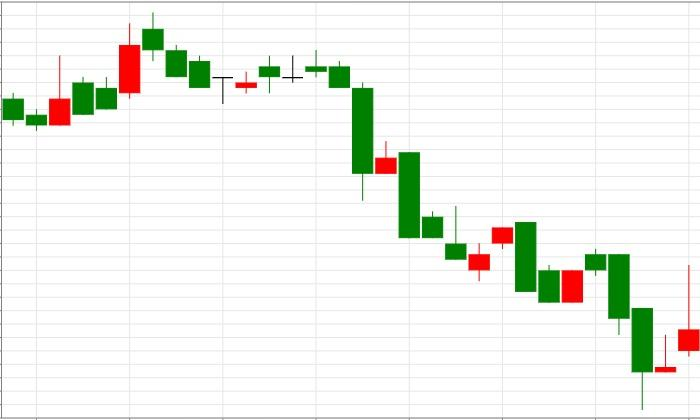inverse_hammer_rise: (305, 50, 466, 259)
